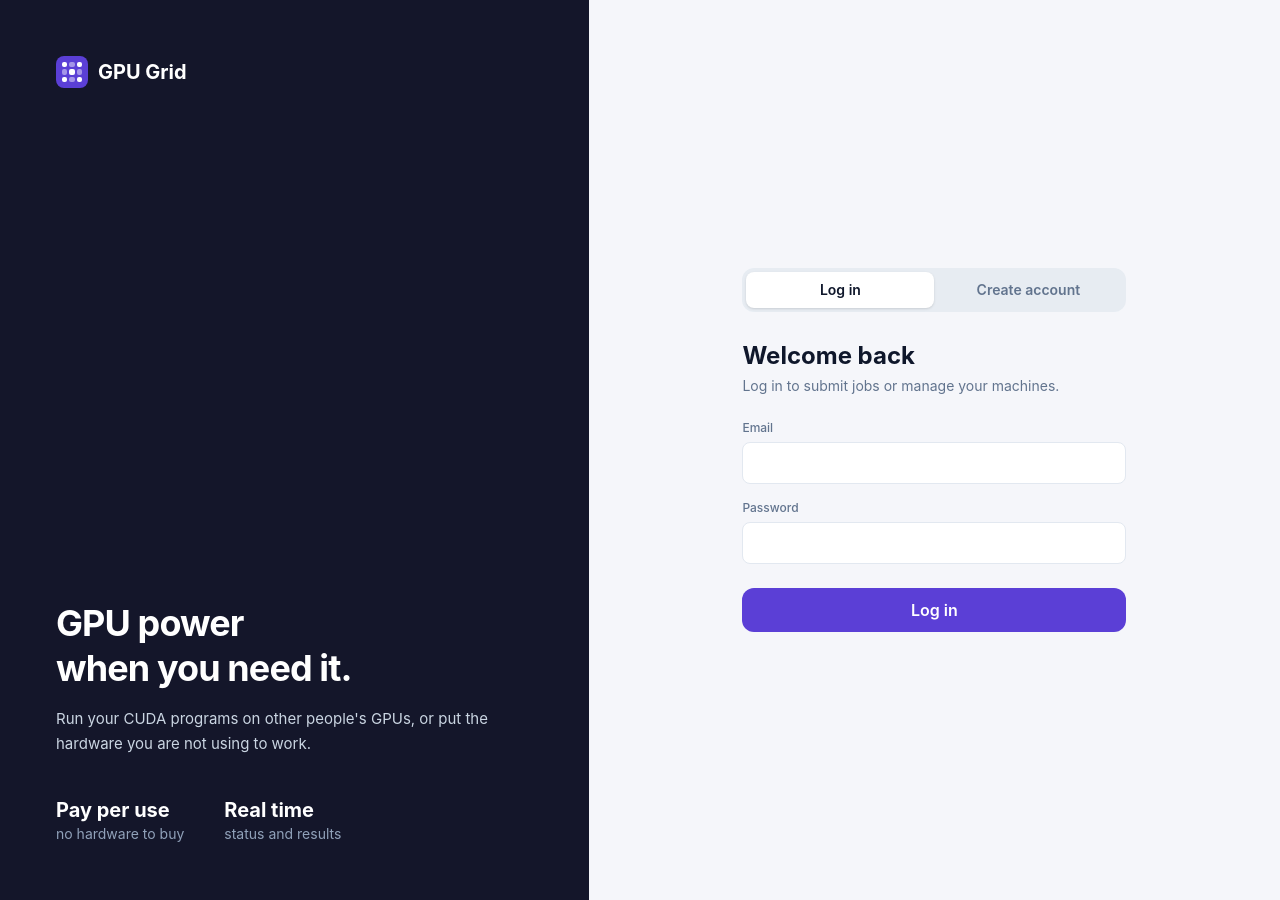
AuthPage › shows the error of the backend when the password is wrong
Type "ana@gpugrid.dev" into the field labelled "Email". click: (934, 463)
box: [742,442,1126,484]
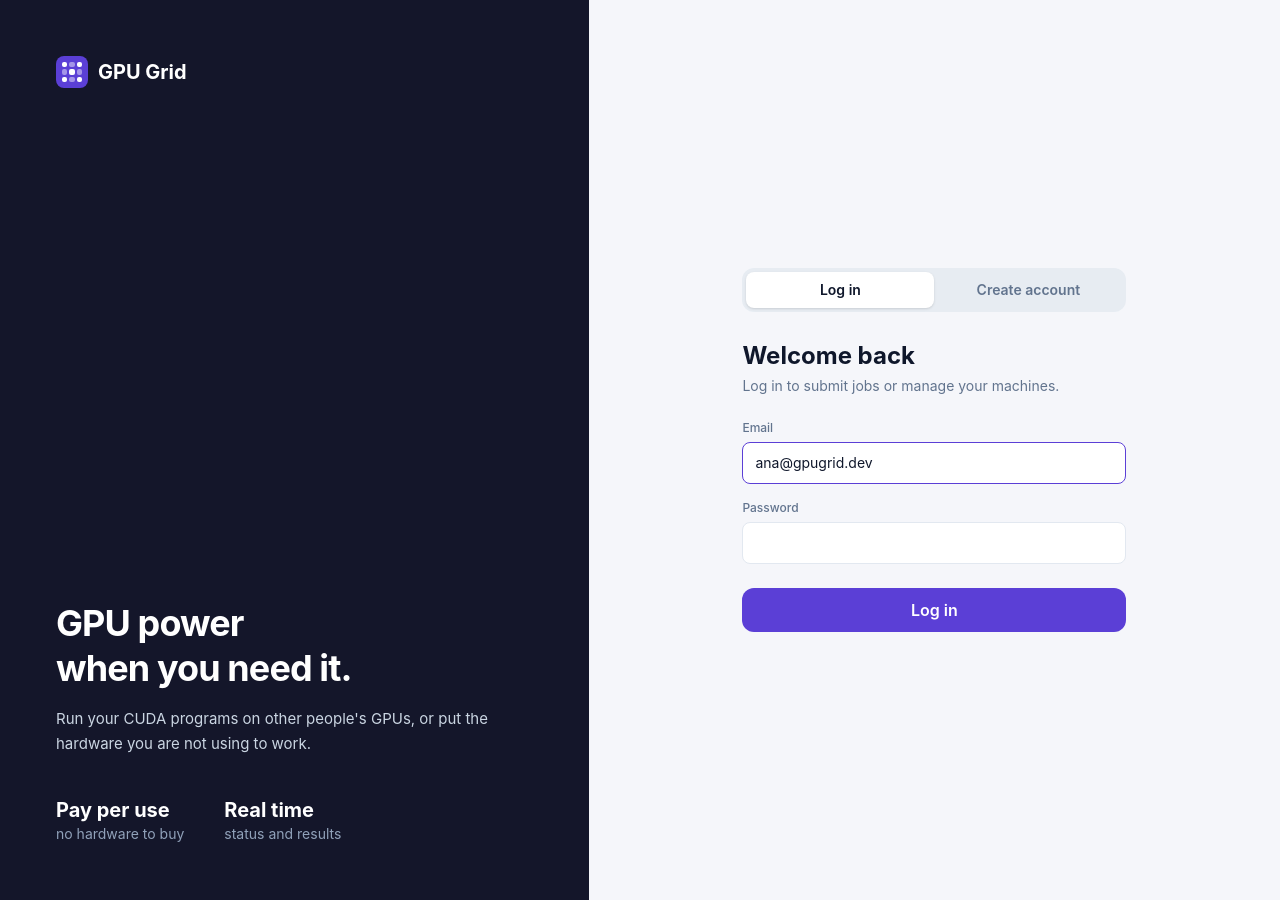
Type "wrong-password" into the password field labelled "Password". click: (934, 543)
box: [742,522,1126,564]
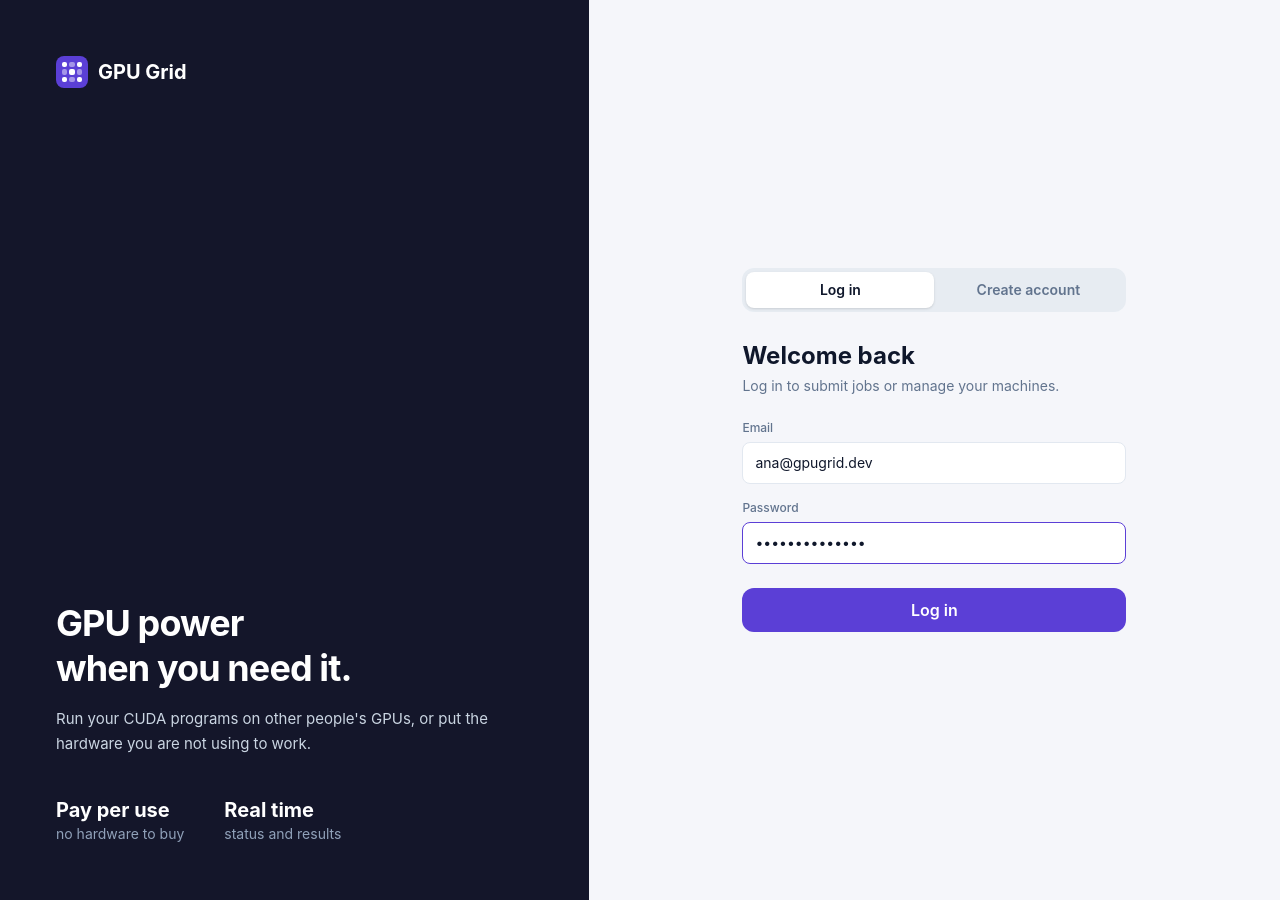
Click the button "Log in". click: (934, 610)
box: [742,588,1126,632]
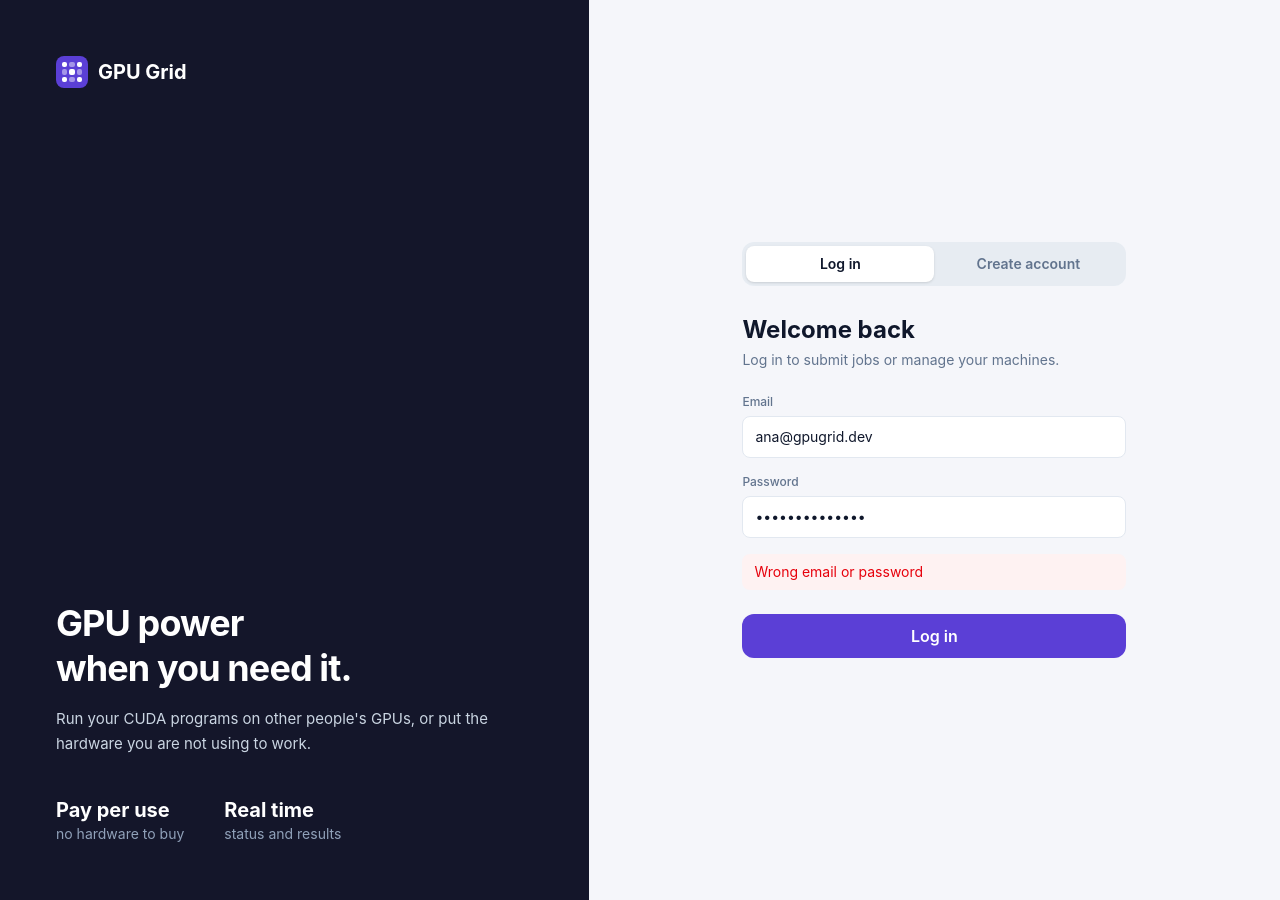
Expected: the text "Wrong email or password" is shown, [742,554,1126,590]
